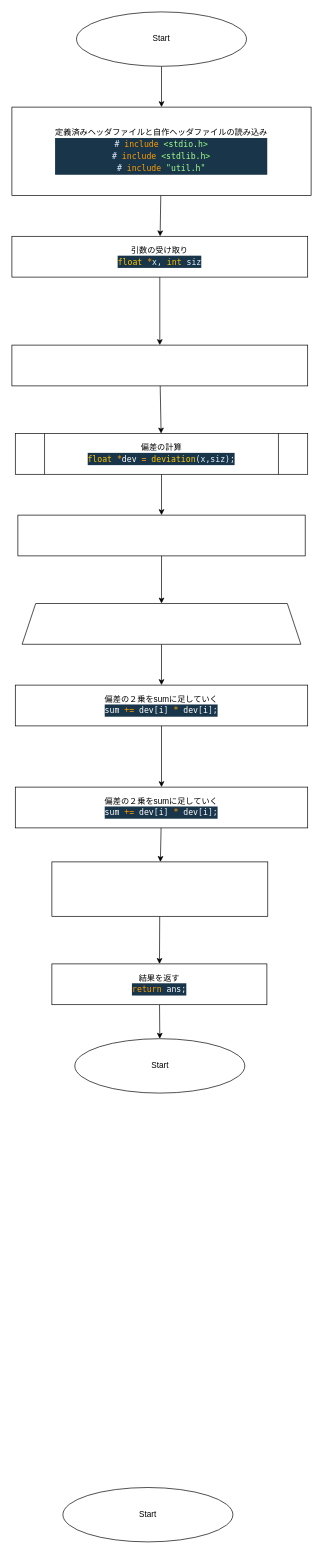
The diagram is 323 pixels wide and 1554 high, and some of its shapes have lost their labels. Each missing label, with the box of its shape:
float型の変数sumを初期化 float sum = 0 ;: (11, 344, 308, 386)
sumとsizの商のルートをとる float ans = sqrt ( sum / siz );: (51, 861, 268, 916)
偏差の２乗の和を計算する: (21, 603, 301, 644)
変数iの初期化 int i = 0 ;: (17, 514, 305, 556)
